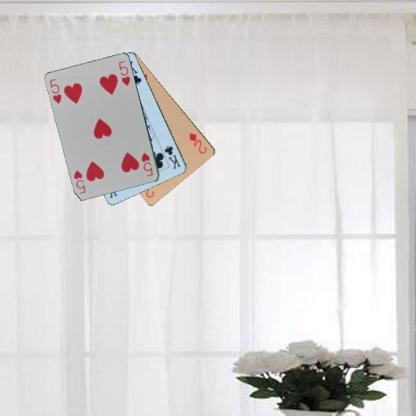2d: (187, 130, 208, 155)
5h: (47, 76, 63, 105), (139, 150, 154, 178)
Kc: (162, 144, 182, 170)
